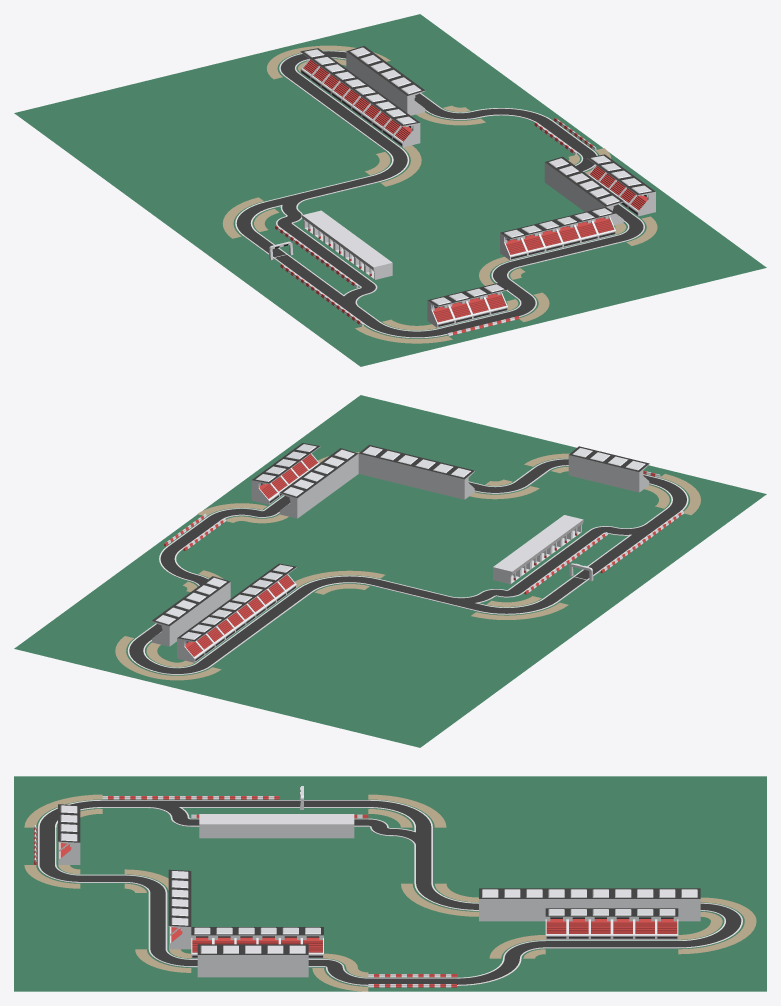
The model's file is Track1.obj.
3 renders of one model, top to bottom at view 1: azimuth 30°, elevation 25°; view 2: azimuth 150°, elevation 25°; view 3: azimuth 270°, elevation 25°, orthographic. The views are drawn at different scales.
Parts seen in each view (by area): view 1: grass, roadCornerLarger.004, roadCornerLarger.001, grandStandCovered.034, roadCornerLarger.002, roadCornerLarger.005, grandStandCovered.009, grandStandCovered.024, grandStandCovered.031, grandStandCovered.014; view 2: grass, roadCornerLarger.002, grandStandCovered.034, roadCornerLarger.005, roadCornerLarger.003, grandStandCovered.024, roadCornerLarger.004, grandStandCovered.030, roadCornerLarger.001, grandStandCovered.015, grandStandCovered.003, grandStandCovered.006 (+3 smaller); view 3: grass, roadCornerLarger.002, roadCornerLarger.005, roadCornerLarger.004, roadCornerLarger.003, grandStandCovered.011, grandStandCovered.015, grandStandCovered.030, grandStandCovered.009, grandStandCovered.010, grandStandCovered.028, grandStandCovered.029 (+63 smaller).
Boxes of the visible parts, box(x1,y1,x2,y2) form: grass: box(14, 14, 766, 366); roadCornerLarger.004: box(471, 107, 553, 123); roadCornerLarger.001: box(364, 322, 447, 338); grandStandCovered.034: box(427, 296, 455, 327); roadCornerLarger.002: box(233, 201, 273, 236); roadCornerLarger.005: box(370, 147, 410, 182); grandStandCovered.009: box(392, 115, 420, 147); grandStandCovered.024: box(500, 228, 527, 260); grandStandCovered.031: box(627, 184, 655, 216); grandStandCovered.014: box(397, 83, 425, 115); grass: box(14, 395, 766, 747); roadCornerLarger.002: box(476, 598, 558, 615); grandStandCovered.034: box(621, 459, 649, 492); roadCornerLarger.005: box(297, 575, 379, 592); roadCornerLarger.003: box(126, 638, 166, 673); grandStandCovered.024: box(447, 466, 474, 499); roadCornerLarger.004: box(157, 546, 197, 581); grandStandCovered.030: box(251, 472, 279, 504); roadCornerLarger.001: box(649, 478, 690, 512); grandStandCovered.015: box(177, 630, 205, 662); grandStandCovered.003: box(279, 485, 307, 518); grandStandCovered.006: box(151, 613, 179, 646); grass: box(14, 776, 766, 991); roadCornerLarger.002: box(368, 799, 434, 827); roadCornerLarger.005: box(412, 883, 478, 911); roadCornerLarger.004: box(457, 958, 523, 986); roadCornerLarger.003: box(678, 920, 744, 949); grandStandCovered.011: box(523, 888, 545, 921); grandStandCovered.015: box(678, 888, 700, 921); grandStandCovered.030: box(286, 944, 308, 977); grandStandCovered.009: box(479, 888, 501, 921); grandStandCovered.010: box(501, 888, 523, 921); grandStandCovered.028: box(242, 944, 264, 977); grandStandCovered.029: box(264, 944, 286, 977).
Bounding box in the file's own units: 230 × 11.96 × 340.
